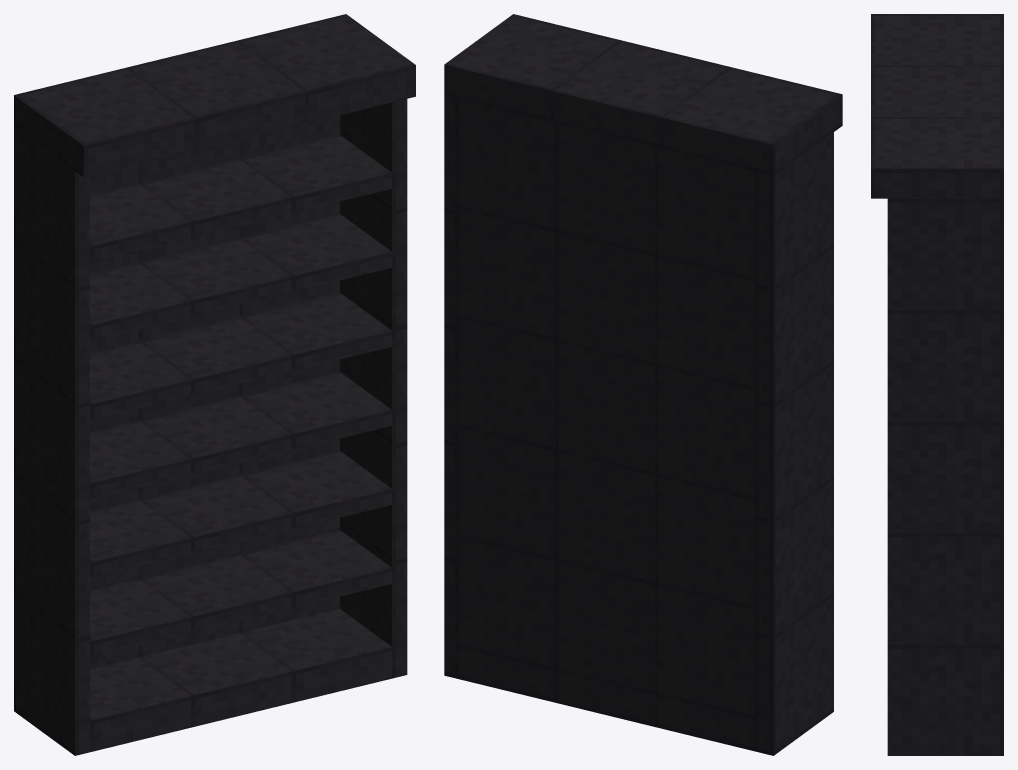
The model's file is gothicBookcase_0.glb.
The picture shows the model from 3 angles, left to right: view 1: azimuth 30°, elevation 25°; view 2: azimuth 150°, elevation 25°; view 3: azimuth 270°, elevation 25°; orthographic projection. The views are drawn at different scales.
Parts seen in each view (by area): view 1: gothicBookcase_0; view 2: gothicBookcase_0; view 3: gothicBookcase_0.
Part boxes in pixels (x1,y1,x2,y2): gothicBookcase_0: (14, 14, 415, 755); gothicBookcase_0: (444, 14, 842, 755); gothicBookcase_0: (871, 14, 1003, 755).
Bounding box in the file's own units: 1.38 × 2.44 × 0.5.
1 material, 1 textured.
